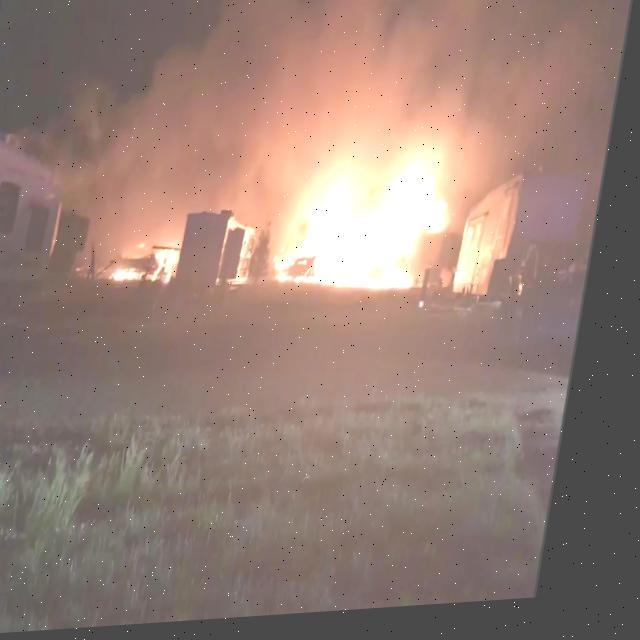Fire: (277, 150, 461, 304)
